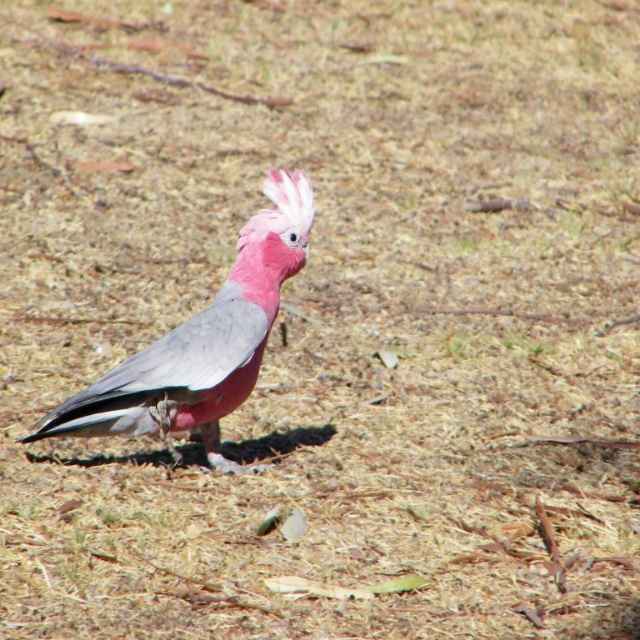Parrot: (19, 167, 314, 479)
